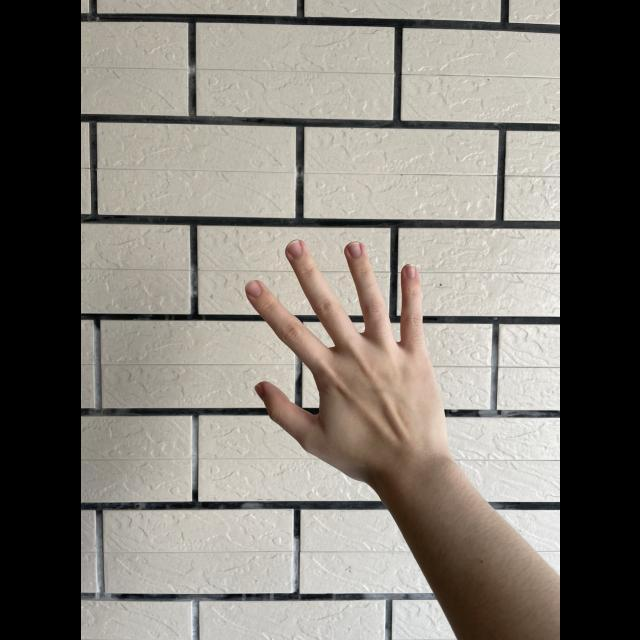bare_hand: (245, 237, 446, 473)
